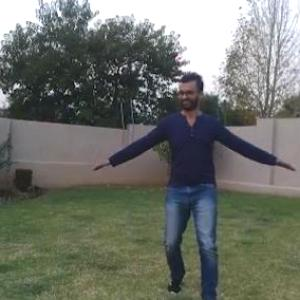land: (92, 62, 299, 299)
